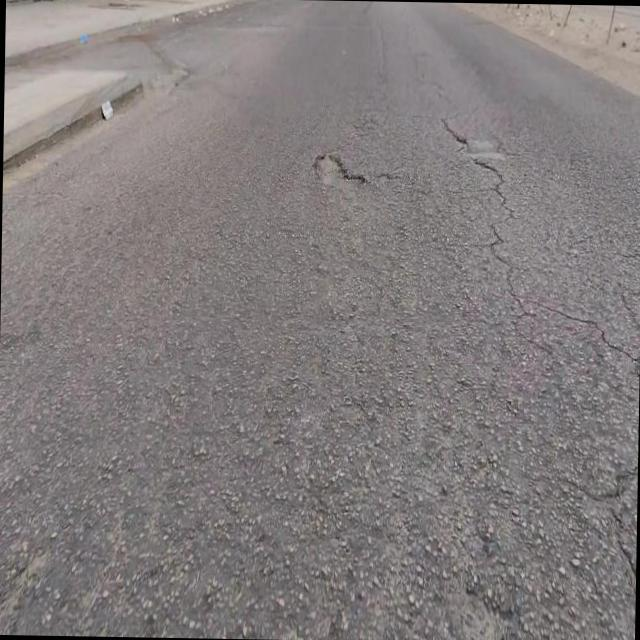Pothole: (313, 154, 364, 183)
